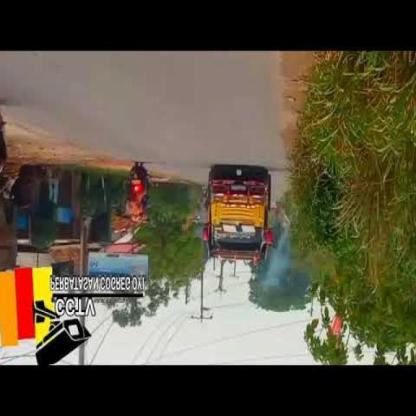truck: (202, 166, 273, 272)
